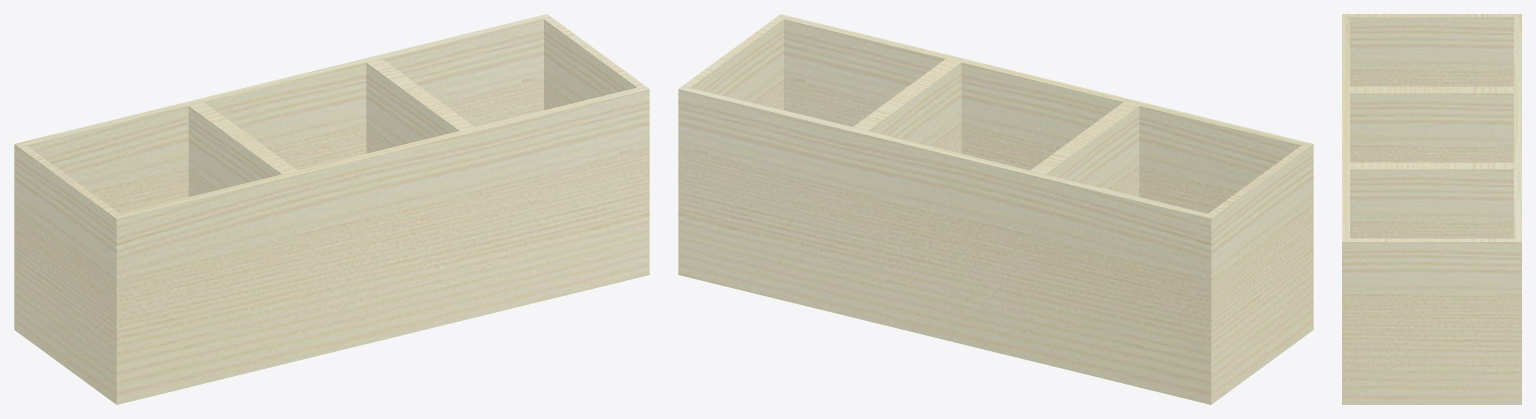
3 renders of one model, left to right at view 1: azimuth 30°, elevation 25°; view 2: azimuth 150°, elevation 25°; view 3: azimuth 270°, elevation 25°, orthographic. The views are drawn at different scales.
Parts seen in each view (by area): view 1: Box.001; view 2: Box.001; view 3: Box.001.
Part boxes in pixels (x1,y1,x2,y2): Box.001: [14, 14, 649, 404]; Box.001: [678, 14, 1313, 404]; Box.001: [1342, 14, 1521, 404].
Bounding box in the file's own units: 6 × 2 × 2.
Materials: 1 (1 with a texture image).
